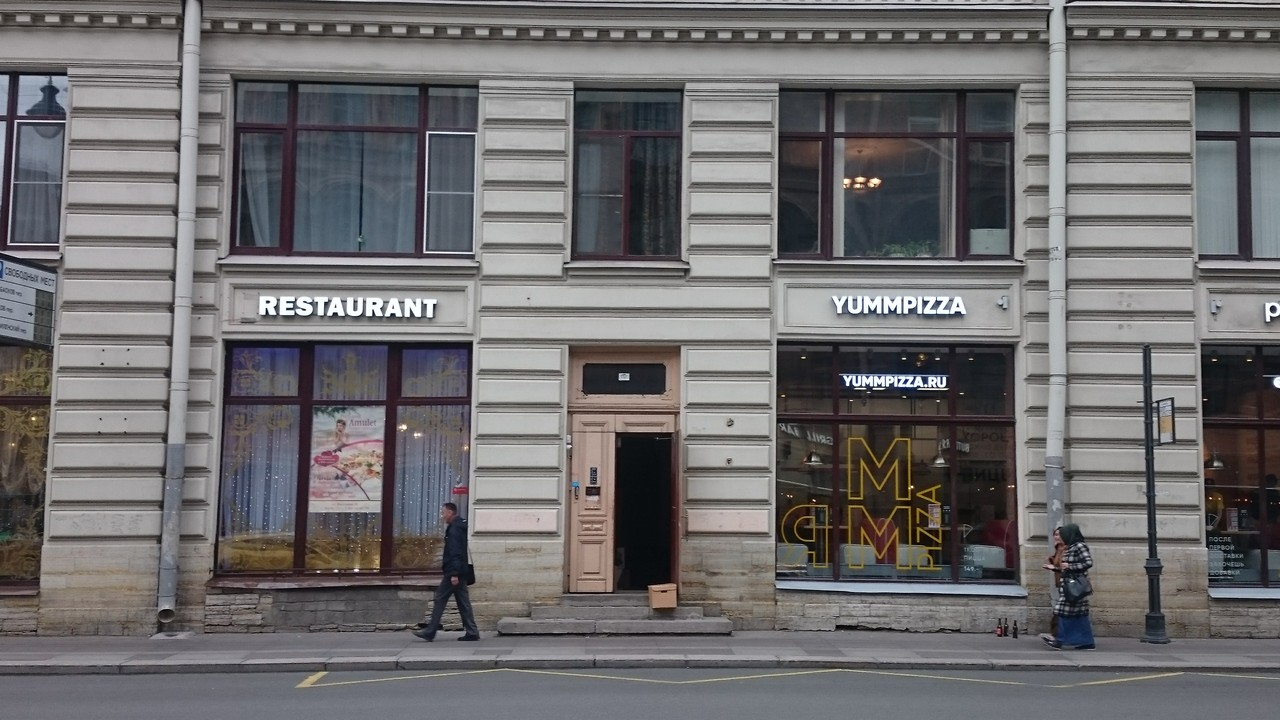door: (570, 416, 678, 593)
signboard: (828, 290, 968, 326), (259, 295, 439, 320)
window: (215, 342, 477, 577), (777, 342, 1013, 581), (230, 84, 478, 254), (772, 90, 1014, 260), (571, 88, 684, 261)
